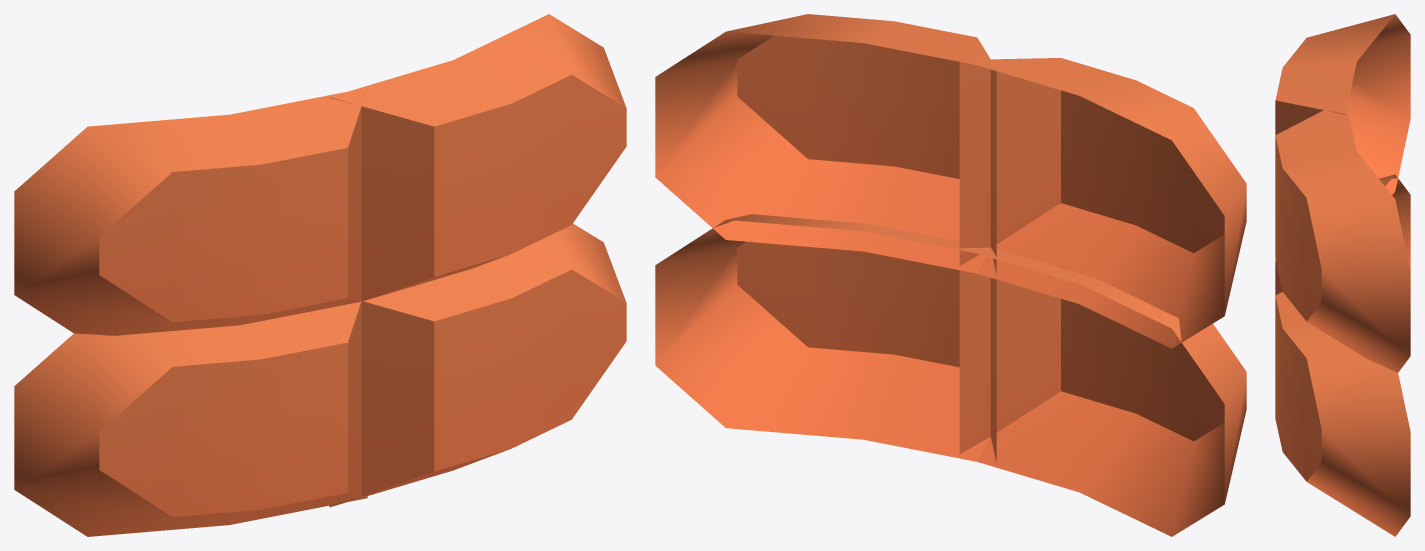
File: Body_Prop_Abs_White.fbx
The picture shows the model from 3 angles, left to right: view 1: azimuth 30°, elevation 25°; view 2: azimuth 150°, elevation 25°; view 3: azimuth 270°, elevation 25°; orthographic projection. The views are drawn at different scales.
Parts seen in each view (by area): view 1: Body_Prop_Abs_White; view 2: Body_Prop_Abs_White; view 3: Body_Prop_Abs_White.
Part boxes in pixels (bbox=[...]): Body_Prop_Abs_White: bbox=[14, 14, 626, 536]; Body_Prop_Abs_White: bbox=[655, 14, 1246, 536]; Body_Prop_Abs_White: bbox=[1275, 14, 1410, 536].
Size of the model in its own units: 39.29 by 26.14 by 9.47.
